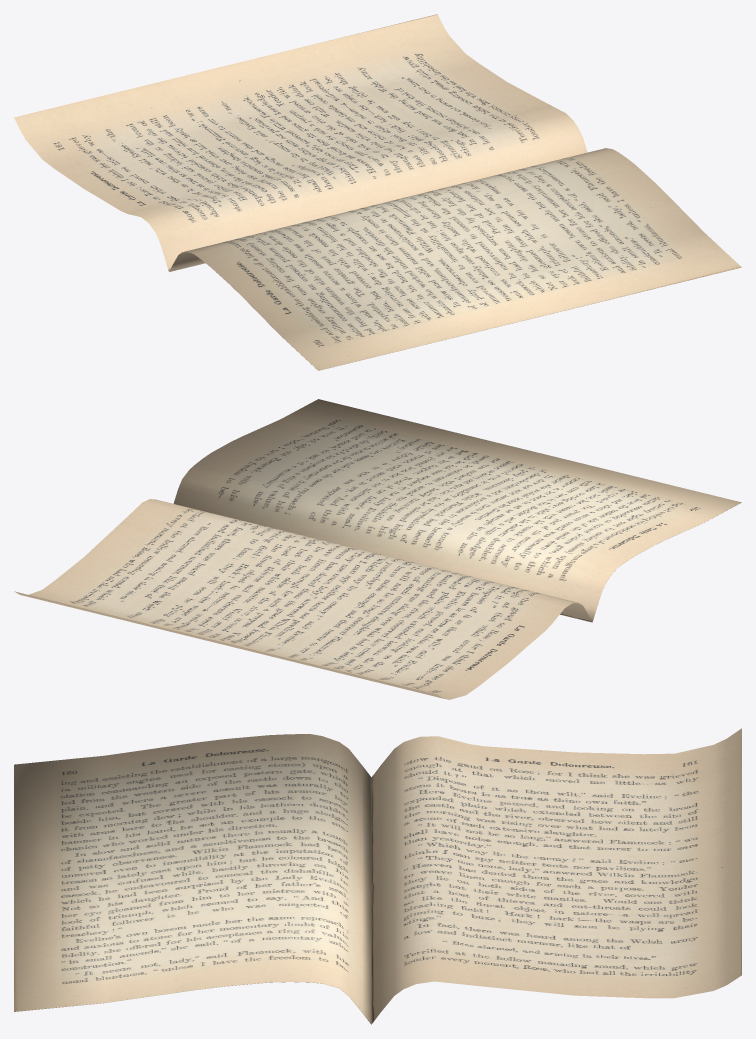
Rendered from Book Pages.glb.
The picture shows the model from 3 angles, top to bottom: view 1: azimuth 30°, elevation 25°; view 2: azimuth 150°, elevation 25°; view 3: azimuth 270°, elevation 25°; orthographic projection. The views are drawn at different scales.
Parts seen in each view (by area): view 1: Book Open Pages, Book Open Pages.001; view 2: Book Open Pages.001, Book Open Pages; view 3: Book Open Pages, Book Open Pages.001.
Part boxes in pixels (x1,y1,x2,y2): Book Open Pages: (14,14,587,271); Book Open Pages.001: (169,148,741,370); Book Open Pages.001: (173,399,741,622); Book Open Pages: (14,499,592,699); Book Open Pages: (371,728,741,1023); Book Open Pages.001: (14,734,371,1024).
Bounding box in the file's own units: 25.12 × 2.34 × 31.27.
Materials: 2 (2 with a texture image).
